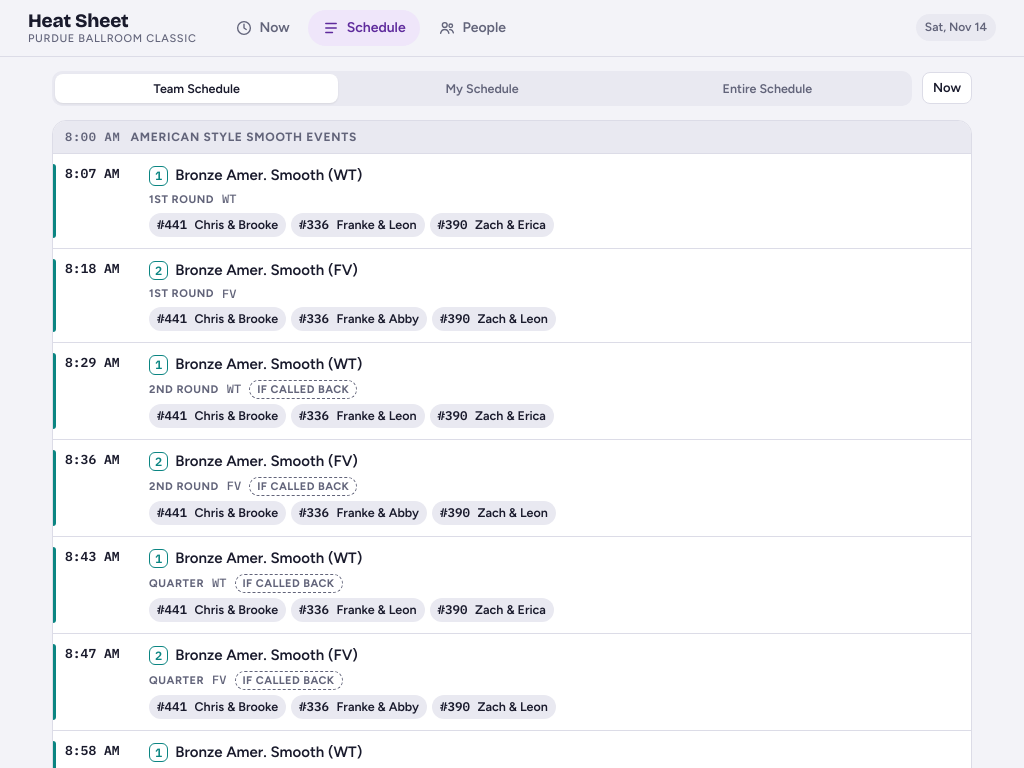
Scenario: Schedule tab › marks later rounds, which need a callback
Click the button "My Schedule": (482, 88) left=340, top=74, right=624, bottom=103
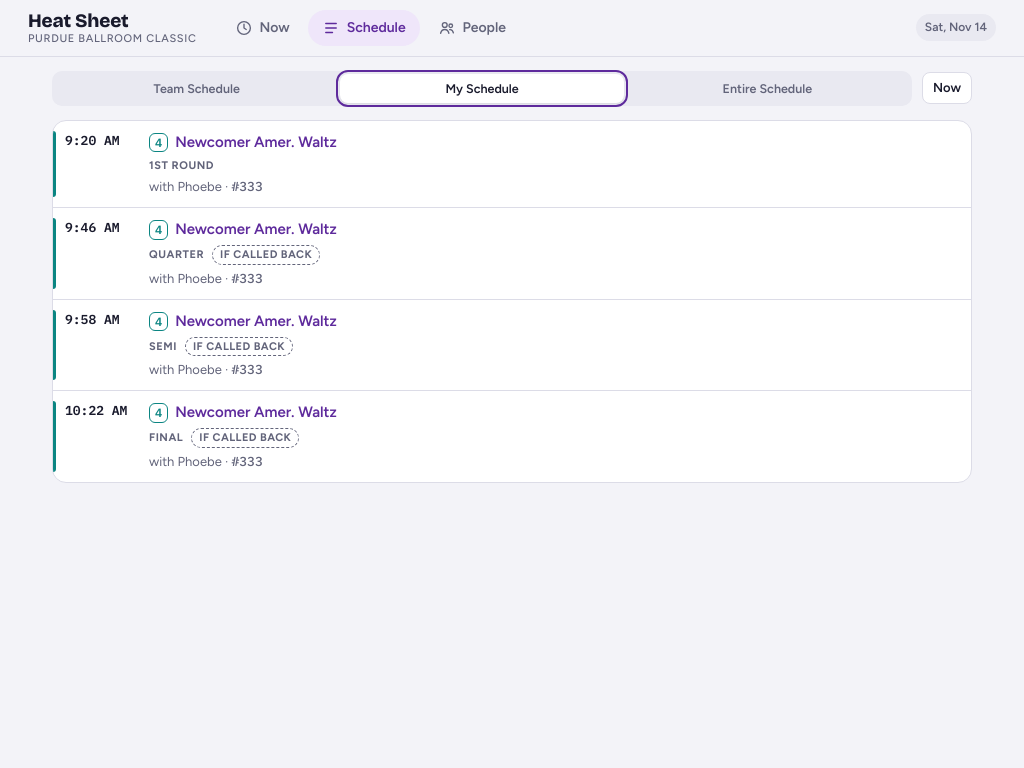
Check: the text "If called back" is shown 3 times, box left=212, top=245, right=320, bottom=265; left=185, top=337, right=293, bottom=356; left=191, top=428, right=299, bottom=448
